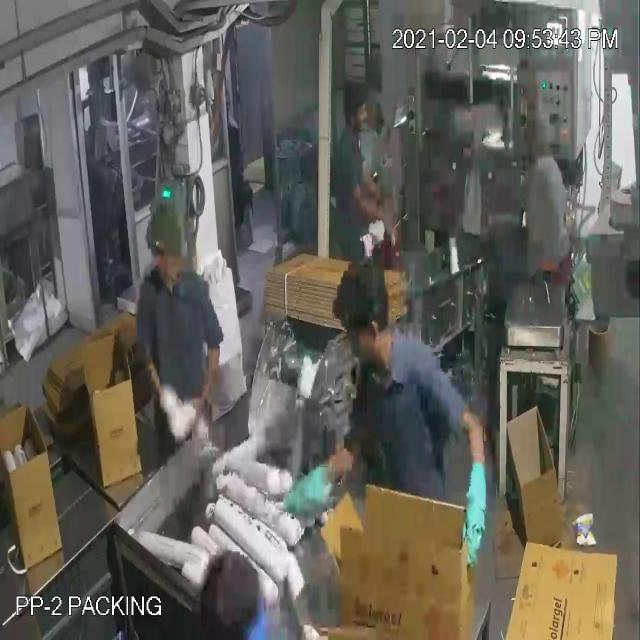No_Gloves: (34, 44, 477, 508)
